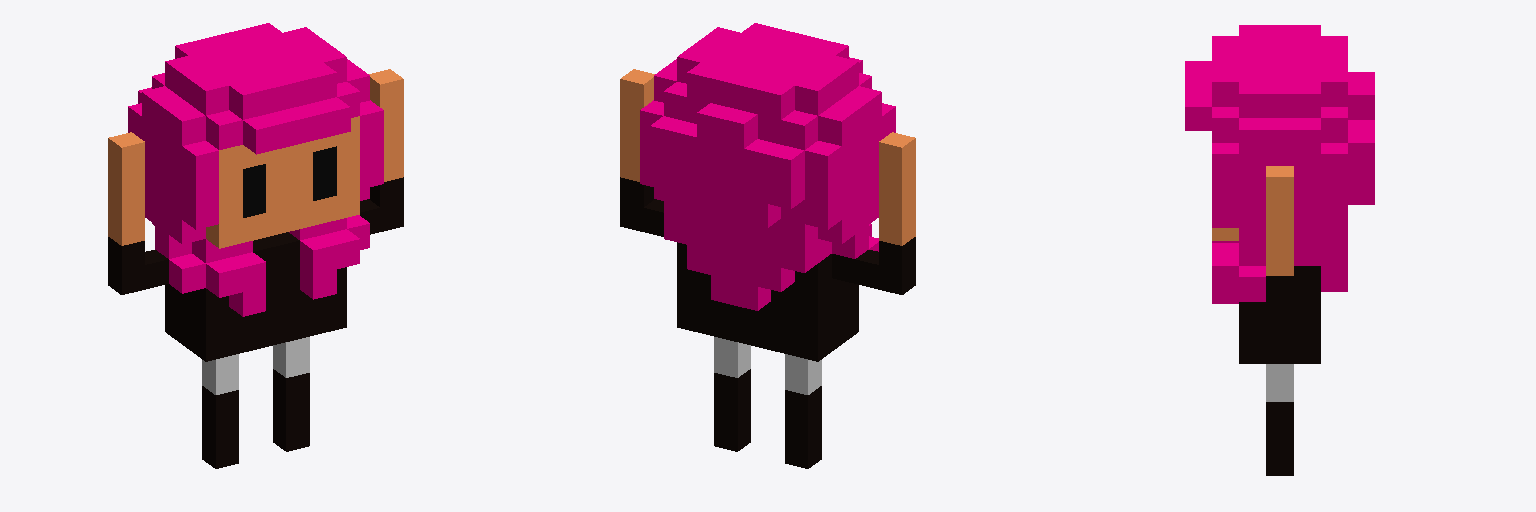
The picture shows the model from 3 angles: view 1: azimuth 30°, elevation 25°; view 2: azimuth 150°, elevation 25°; view 3: azimuth 270°, elevation 25°; orthographic projection.
Parts seen in each view (by area): view 1: object 1; view 2: object 1; view 3: object 1.
Boxes of the visible parts, <box> form: object 1: <box>108,23,403,468</box>; object 1: <box>620,23,915,468</box>; object 1: <box>1185,25,1374,475</box>.
Size of the model in its own units: 1.2 by 1.6 by 0.7.
Materials: 1 (1 with a texture image).